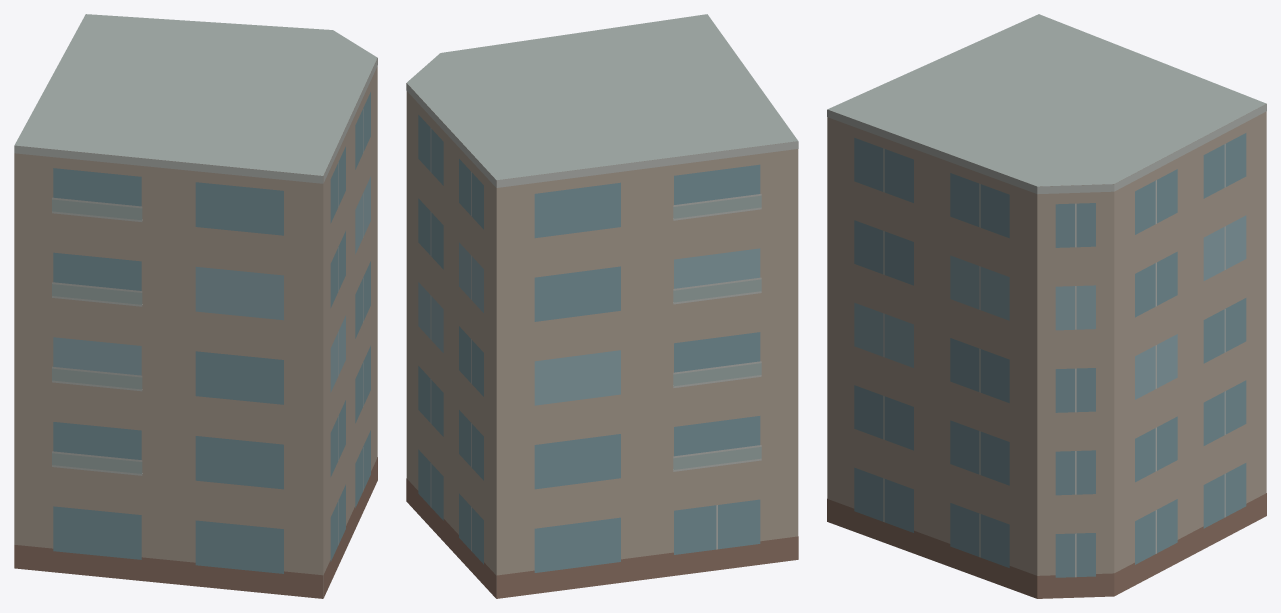
File: survey-upis-32529016.glb
3 views of the same model, side by side, from view 1: azimuth 30°, elevation 25°; view 2: azimuth 150°, elevation 25°; view 3: azimuth 270°, elevation 25° (orthographic). The views are drawn at different scales.
Parts seen in each view (by area): view 1: survey-upis-32529016.tmp; view 2: survey-upis-32529016.tmp; view 3: survey-upis-32529016.tmp.
Part boxes in pixels (<box>): survey-upis-32529016.tmp: <box>14,14,377,598</box>; survey-upis-32529016.tmp: <box>406,14,798,598</box>; survey-upis-32529016.tmp: <box>827,14,1266,598</box>.
Size of the model in its own units: 11.81 by 13.15 by 12.71.
